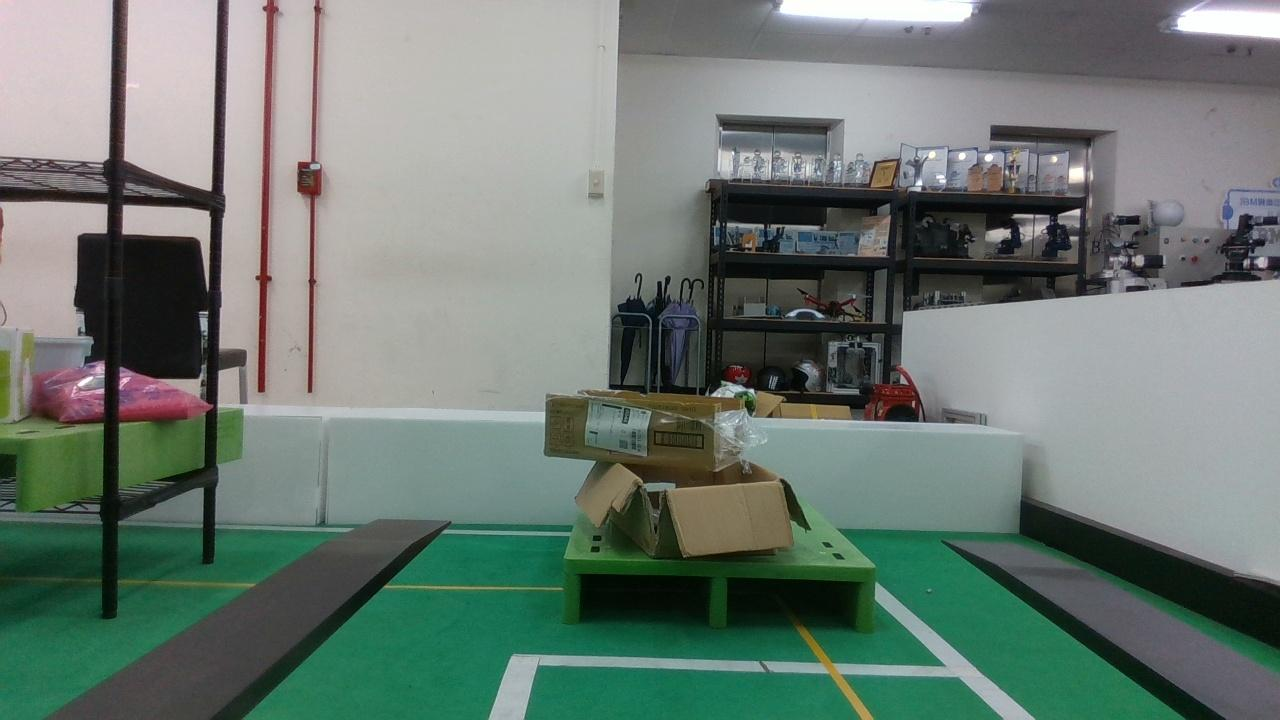Pallet: (553, 561, 879, 639)
